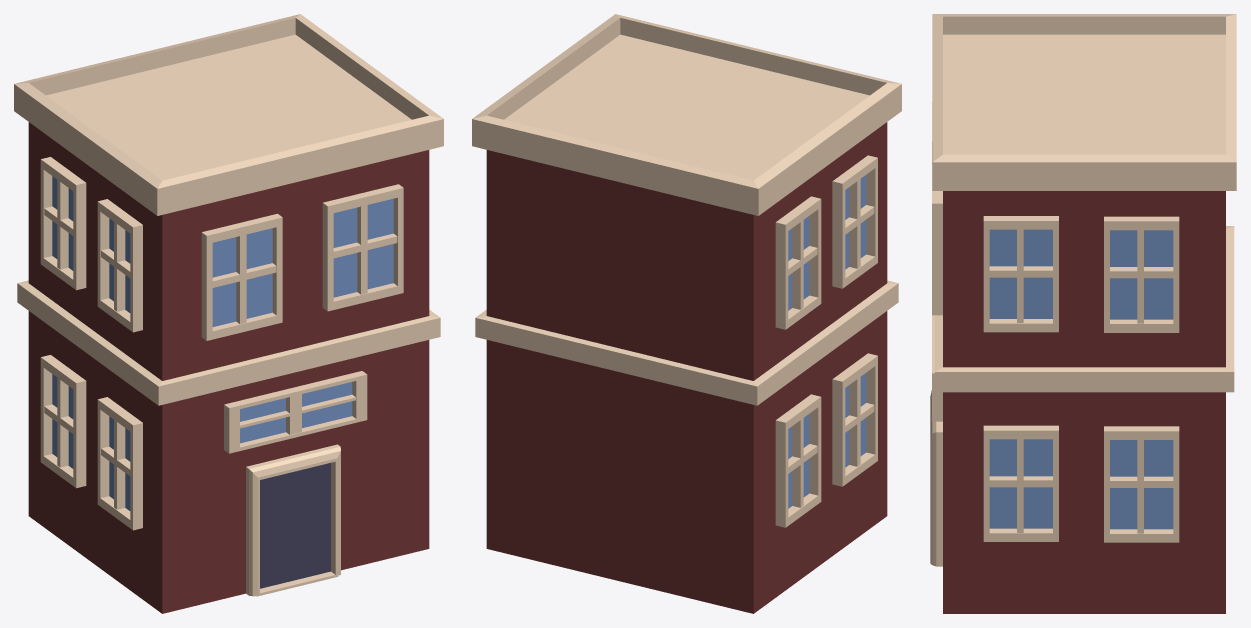
The model's file is building merah.fbx.
The picture shows the model from 3 angles, left to right: view 1: azimuth 30°, elevation 25°; view 2: azimuth 150°, elevation 25°; view 3: azimuth 270°, elevation 25°; orthographic projection. The views are drawn at different scales.
Parts seen in each view (by area): view 1: building merah; view 2: building merah; view 3: building merah.
Boxes of the visible parts, x1,y1,x2,y2 form: building merah: [14, 14, 443, 613]; building merah: [472, 14, 901, 613]; building merah: [930, 14, 1236, 613].
Size of the model in its own units: 731 by 1056 by 638.
Materials: 1 (1 with a texture image).
